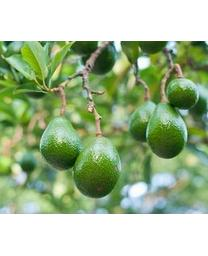avocado: (73, 136, 122, 198), (146, 101, 189, 160), (39, 116, 80, 171), (166, 78, 199, 111)
